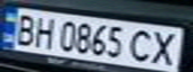0: (54, 17, 78, 53)
5: (106, 24, 130, 60)
6: (90, 21, 109, 57)
8: (72, 20, 93, 55)
B: (9, 11, 39, 46)
C: (124, 27, 160, 64)
H: (30, 14, 57, 50)
X: (145, 28, 184, 66)
